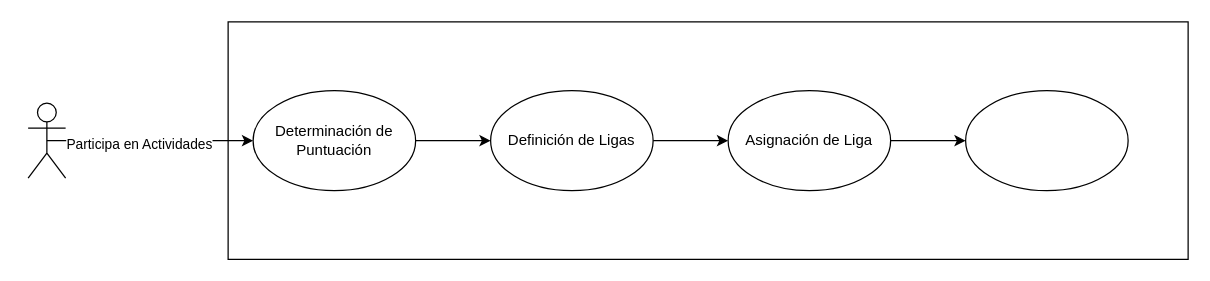
Image size: 1210x281. Some labels were removed from this diagram. The centre of each missing label's shape, as x and y in pixels:
Reevaluación y Ajuste: the point at 1046,140
Usuario: the point at 46,140
